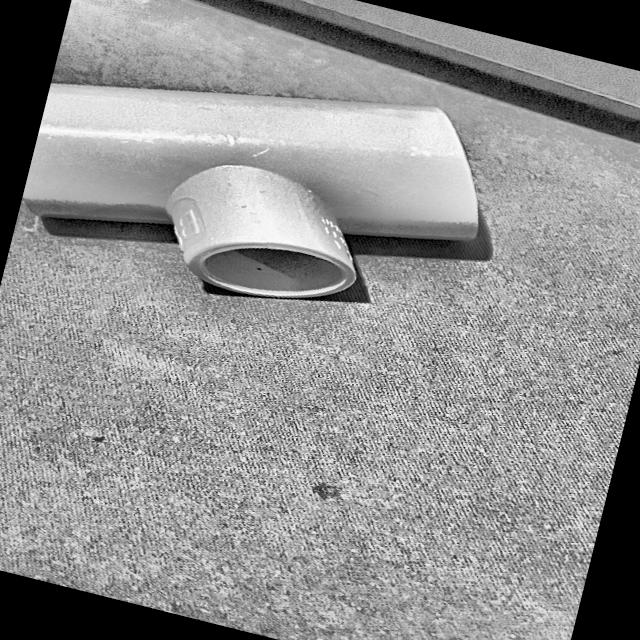EQUALTEE: (20, 82, 481, 299)
